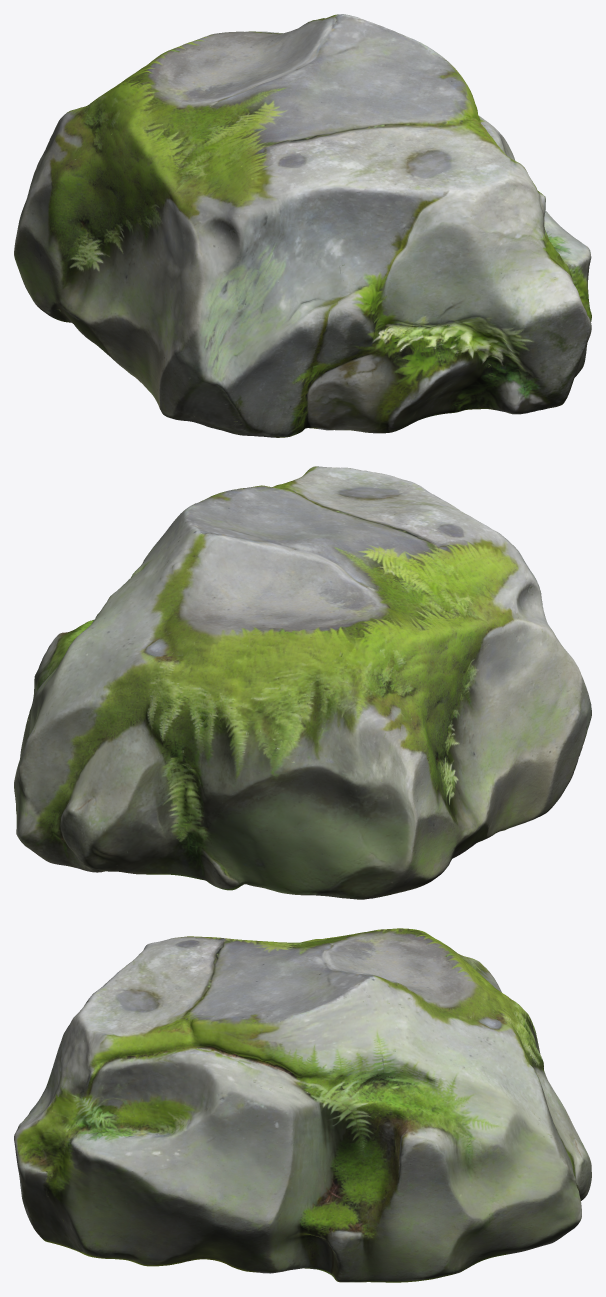
Rendered from mossy_green_rock17_HIGH_RES.fbx.
3 views of the same model, one above another, from view 1: azimuth 30°, elevation 25°; view 2: azimuth 150°, elevation 25°; view 3: azimuth 270°, elevation 25° (orthographic). The views are drawn at different scales.
Visible parts, largest first — view 1: mossy_green_rock17_HIGH_RES; view 2: mossy_green_rock17_HIGH_RES; view 3: mossy_green_rock17_HIGH_RES.
Part boxes in pixels (bbox=[...]): mossy_green_rock17_HIGH_RES: bbox=[14, 14, 591, 437]; mossy_green_rock17_HIGH_RES: bbox=[14, 466, 591, 899]; mossy_green_rock17_HIGH_RES: bbox=[14, 928, 591, 1282].
Bounding box in the file's own units: 0.7384 × 0.5064 × 1.
